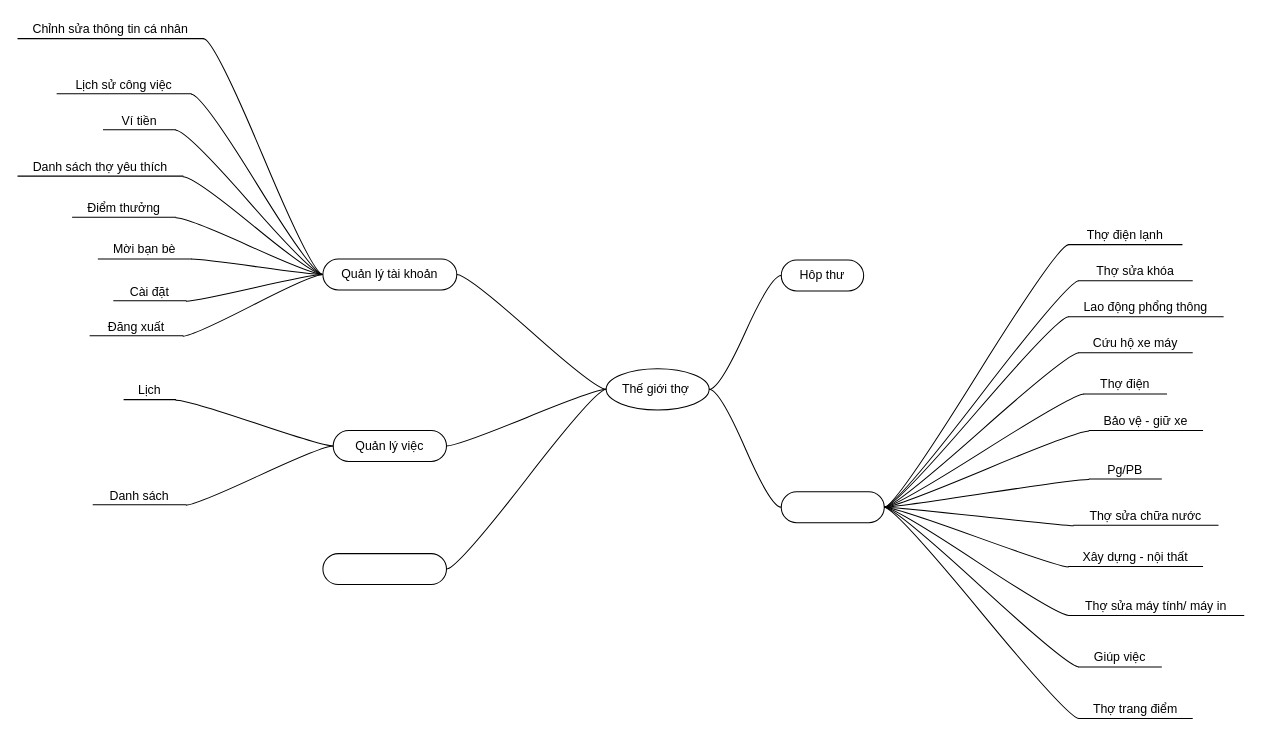
Some shapes in this 1262 by 736 pixel diagram are drawn without their labels. Each missing label, with the centre of its shape:
"Cộng đồng thợ" goes at (x=384, y=569).
"Dịch vụ thợ" goes at (x=832, y=507).
